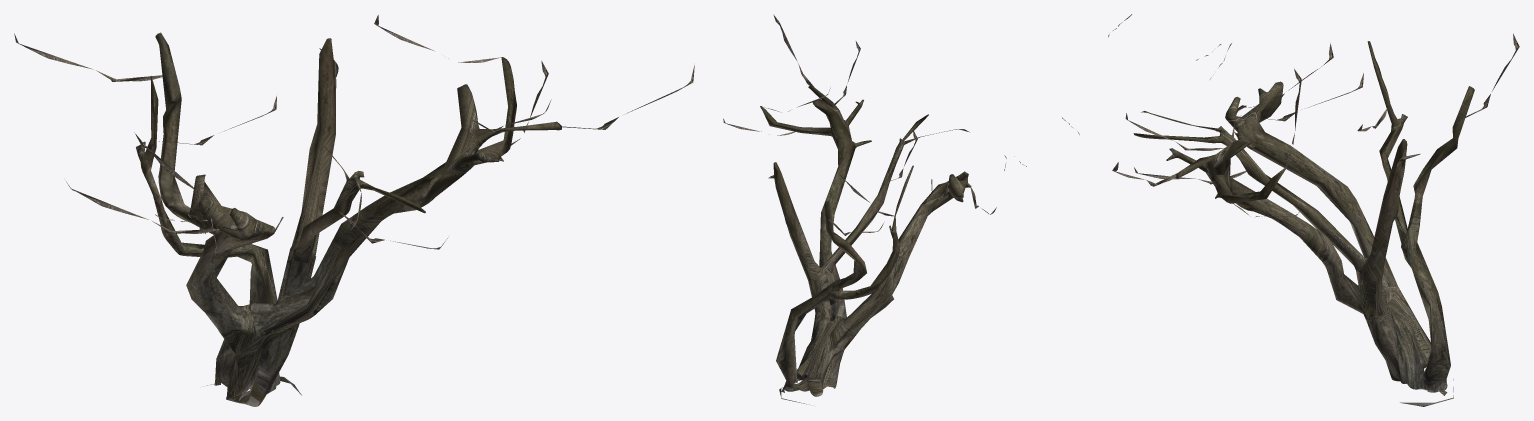
The model's file is island_tree_02_L0_madera.glb.
3 views of the same model, side by side, from view 1: azimuth 30°, elevation 25°; view 2: azimuth 150°, elevation 25°; view 3: azimuth 270°, elevation 25° (orthographic). The views are drawn at different scales.
Visible parts, largest first — view 1: island_tree_02_LOD0; view 2: island_tree_02_LOD0; view 3: island_tree_02_LOD0.
Part boxes in pixels (x1,y1,x2,y2): island_tree_02_LOD0: (14, 15, 694, 406); island_tree_02_LOD0: (723, 14, 1079, 404); island_tree_02_LOD0: (1108, 14, 1519, 406).
Bounding box in the file's own units: 3.6 × 2.98 × 3.28.
2 materials, 2 textured.
